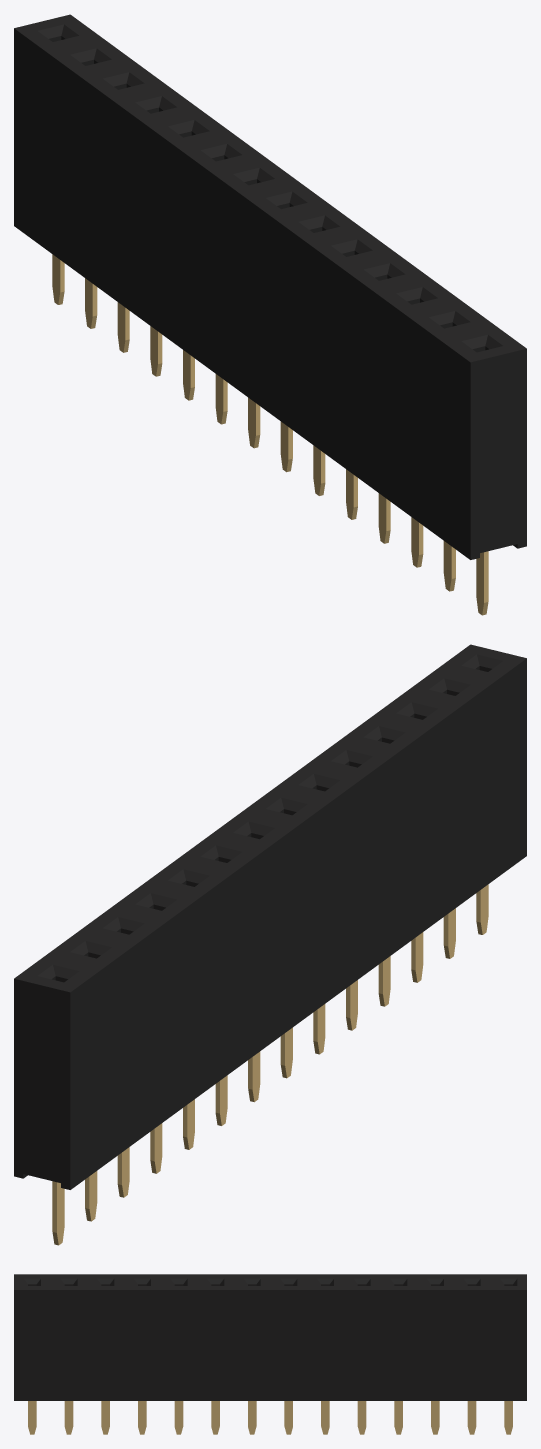
Rendered from kc-pinsocket_1x14_p2.54mm_vertical.glb.
3 renders of one model, top to bottom at view 1: azimuth 30°, elevation 25°; view 2: azimuth 150°, elevation 25°; view 3: azimuth 270°, elevation 25°, orthographic. The views are drawn at different scales.
Parts seen in each view (by area): view 1: 0_0_0_0, 0.75_0.5_0.25_0.9; view 2: 0_0_0_0, 0.75_0.5_0.25_0.9; view 3: 0_0_0_0, 0.75_0.5_0.25_0.9.
Boxes of the visible parts, x1,y1,x2,y2 form: 0_0_0_0: [14, 14, 526, 559]; 0.75_0.5_0.25_0.9: [52, 254, 488, 615]; 0_0_0_0: [14, 644, 526, 1189]; 0.75_0.5_0.25_0.9: [52, 884, 488, 1245]; 0_0_0_0: [14, 1274, 526, 1400]; 0.75_0.5_0.25_0.9: [28, 1401, 512, 1434].
Bounding box in the file's own units: 0.2539 × 1.16 × 3.56.
